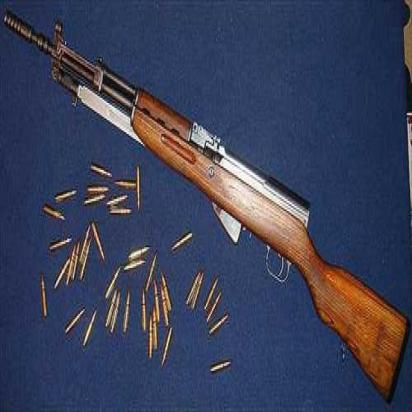Gun: (1, 7, 410, 406)
